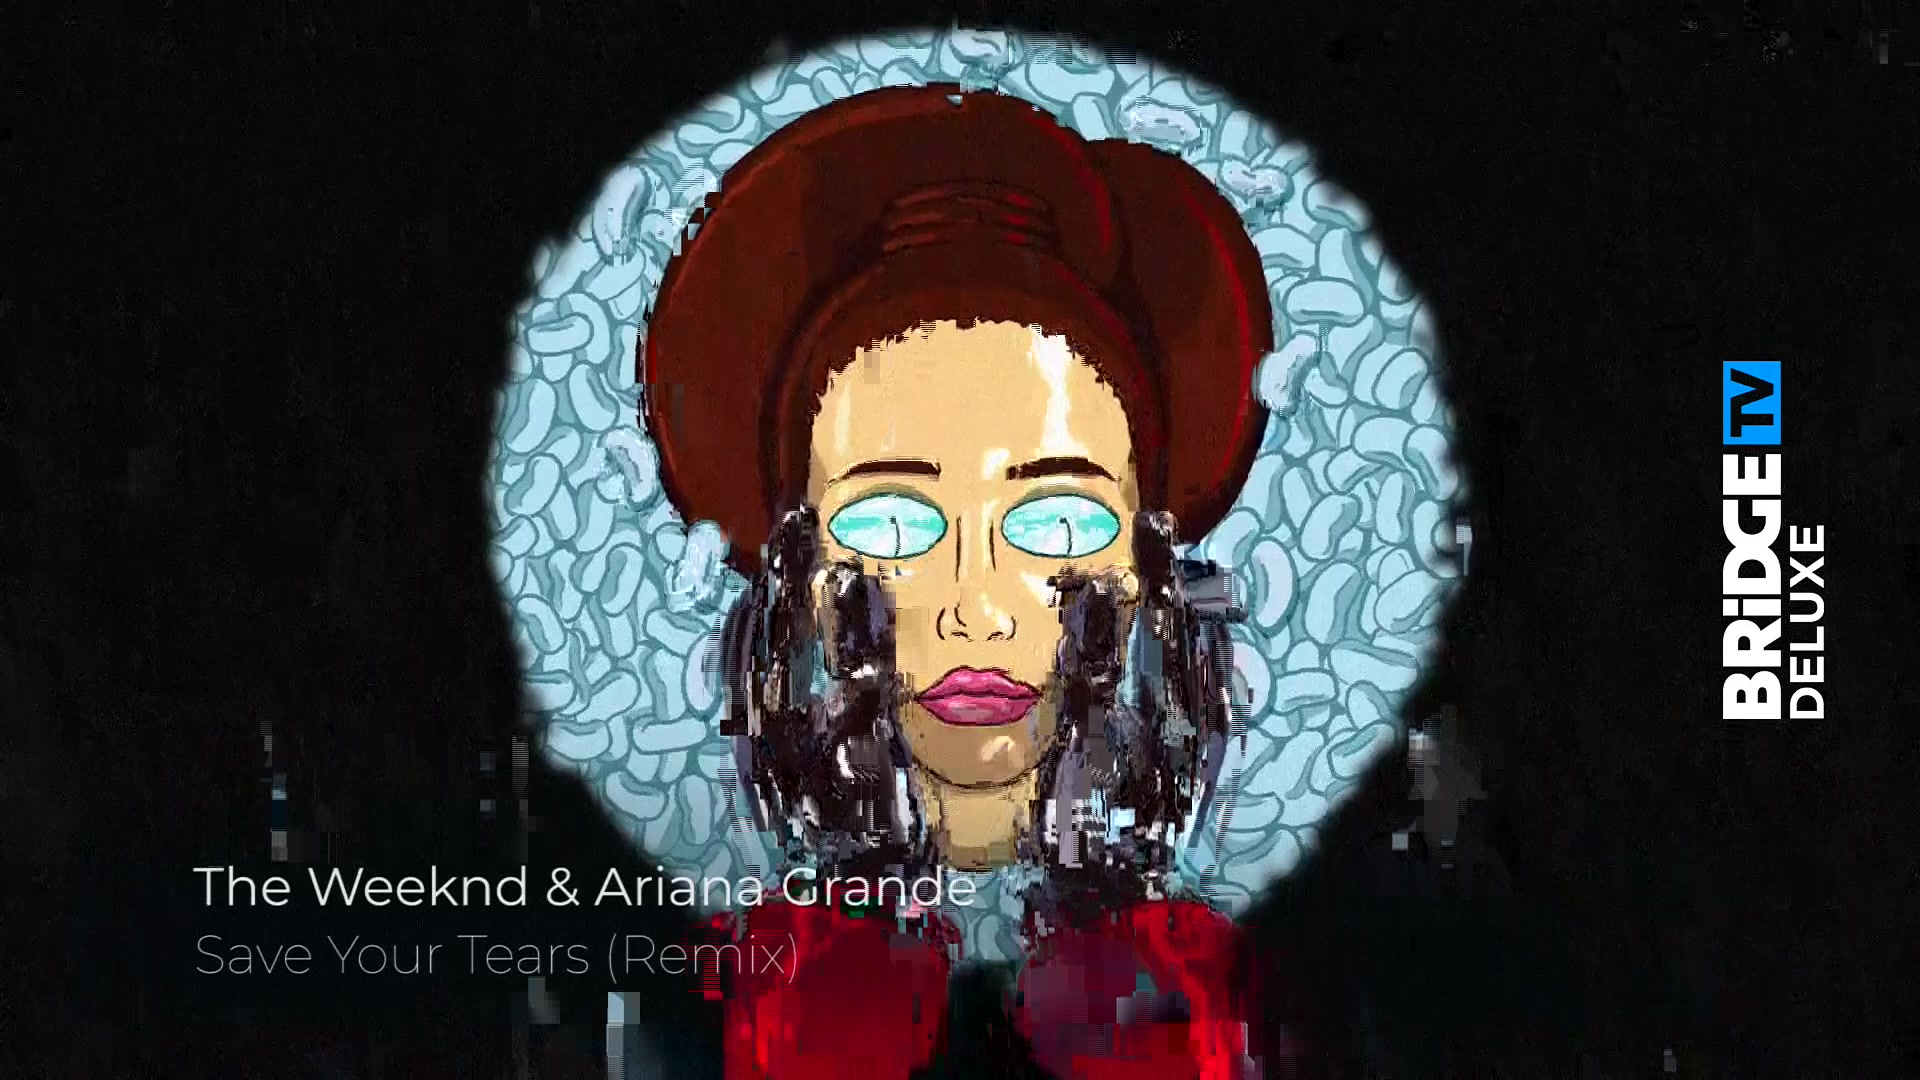Bridge_TV_Deluxe: (1718, 355, 1828, 728)
